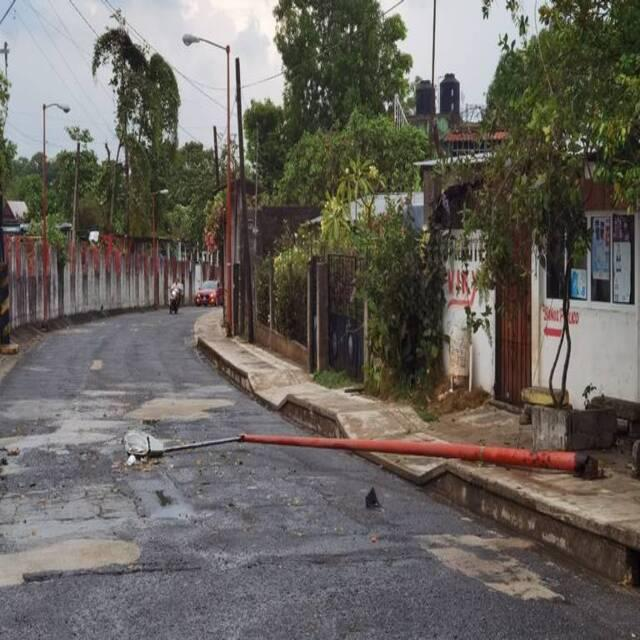Inclined Pole: (119, 421, 598, 482)
